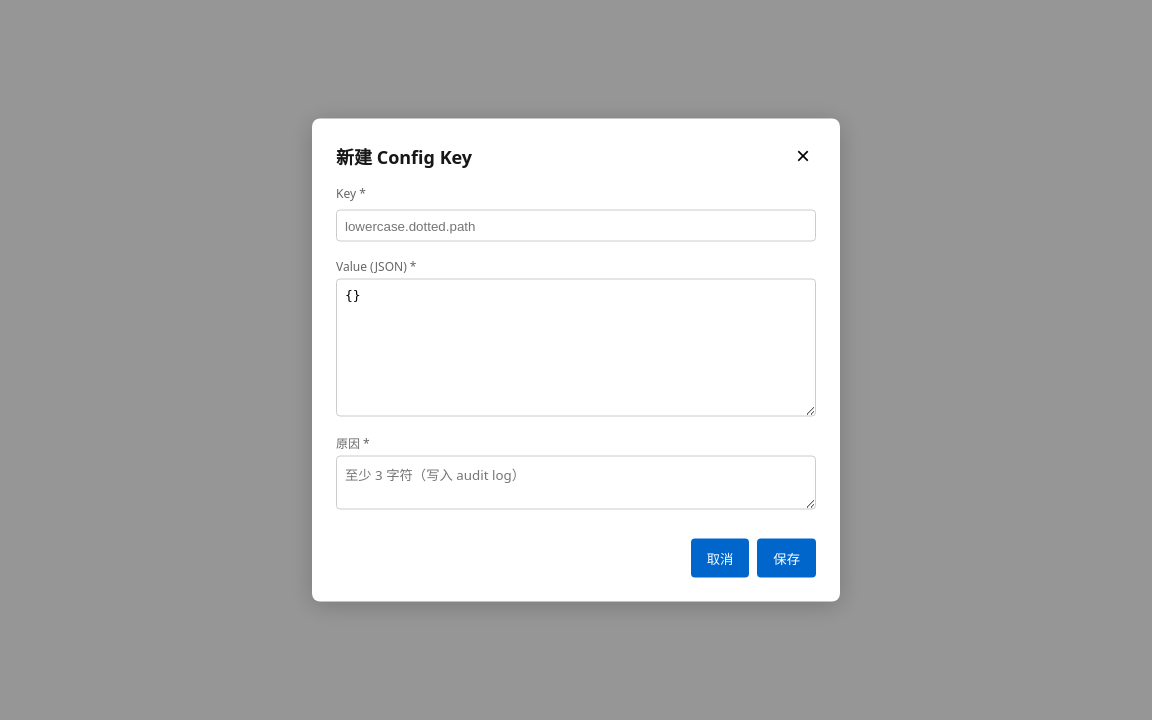
Test case: ConfigEditModal (Sub-E) › 5. invalid key format (uppercase) shows format error
The image size is (1152, 720).
Type "Invalid.Key" into the field with test id "config-key". click: {"x": 576, "y": 226}
box: [336,210,816,242]
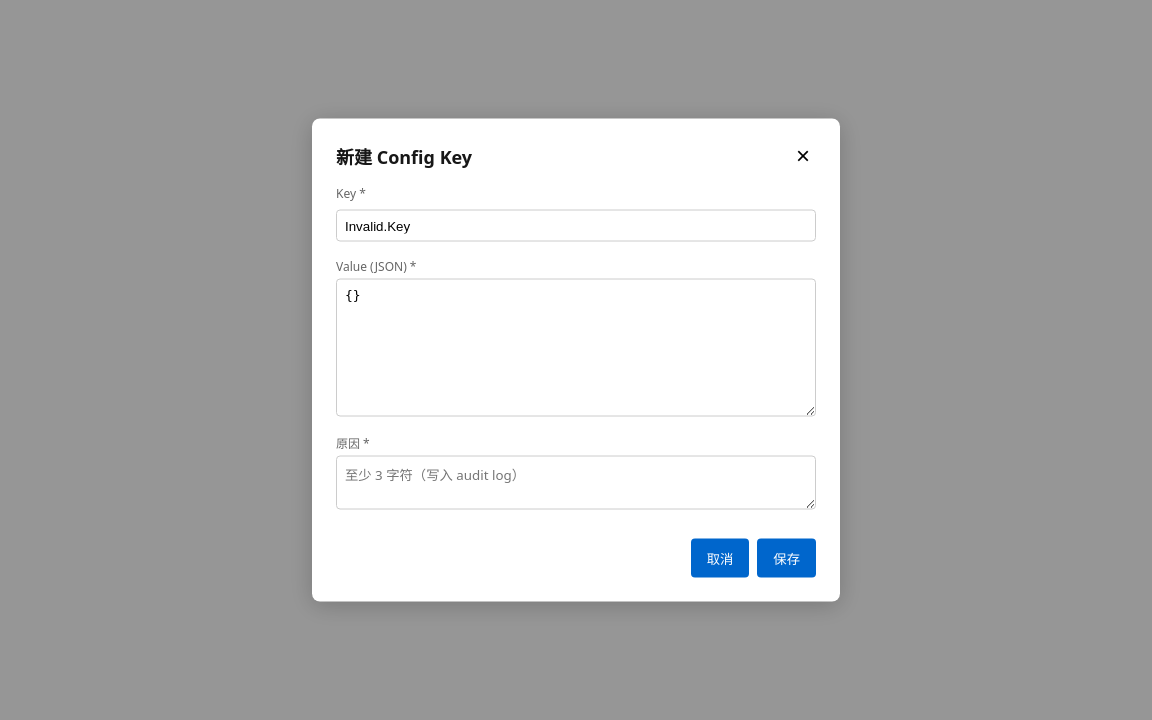
Type "oops" into the text box with test id "config-reason". click: {"x": 576, "y": 482}
box: [336,456,816,510]
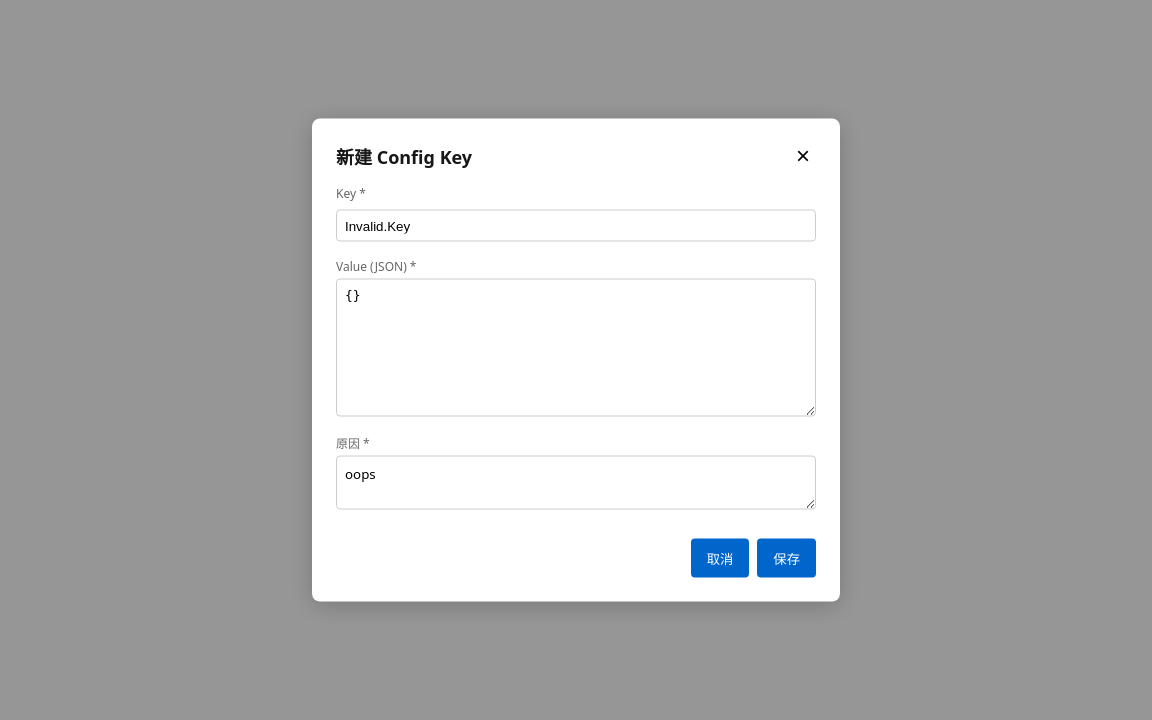
Click the button with test id "config-save". click: {"x": 787, "y": 558}
box: [757,538,816,578]
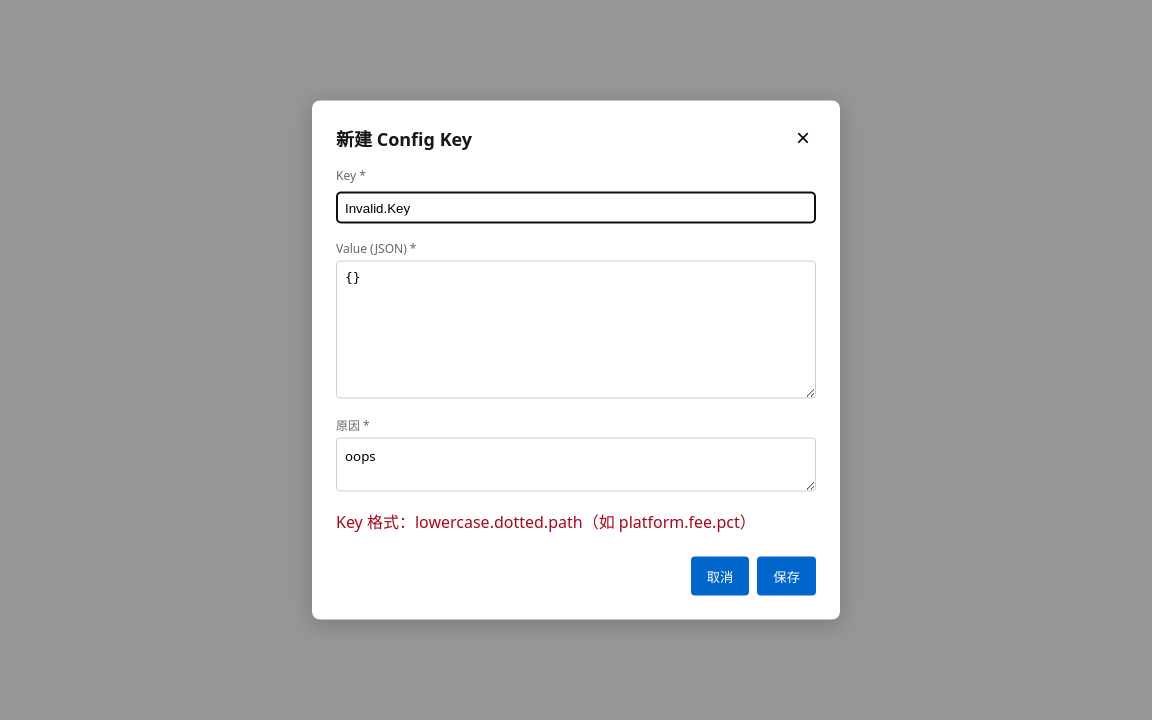
Check: the text with test id "config-modal-error" shows "Key 格式", box [336,510,756,532]
